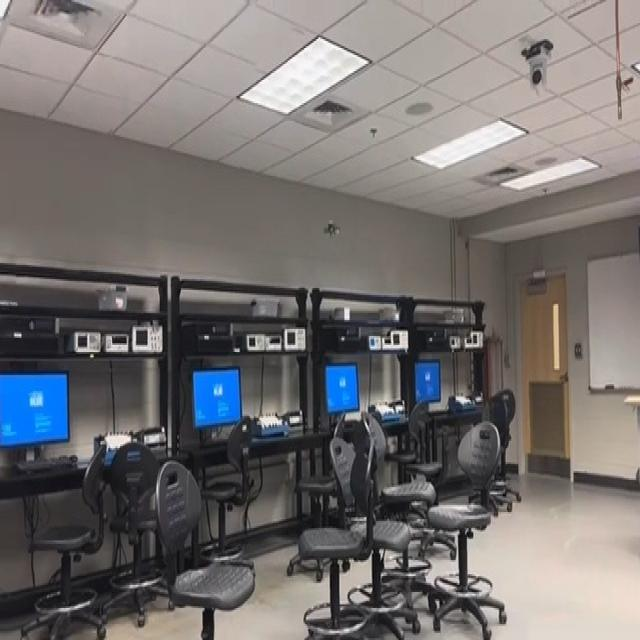drone: (320, 210, 350, 248)
